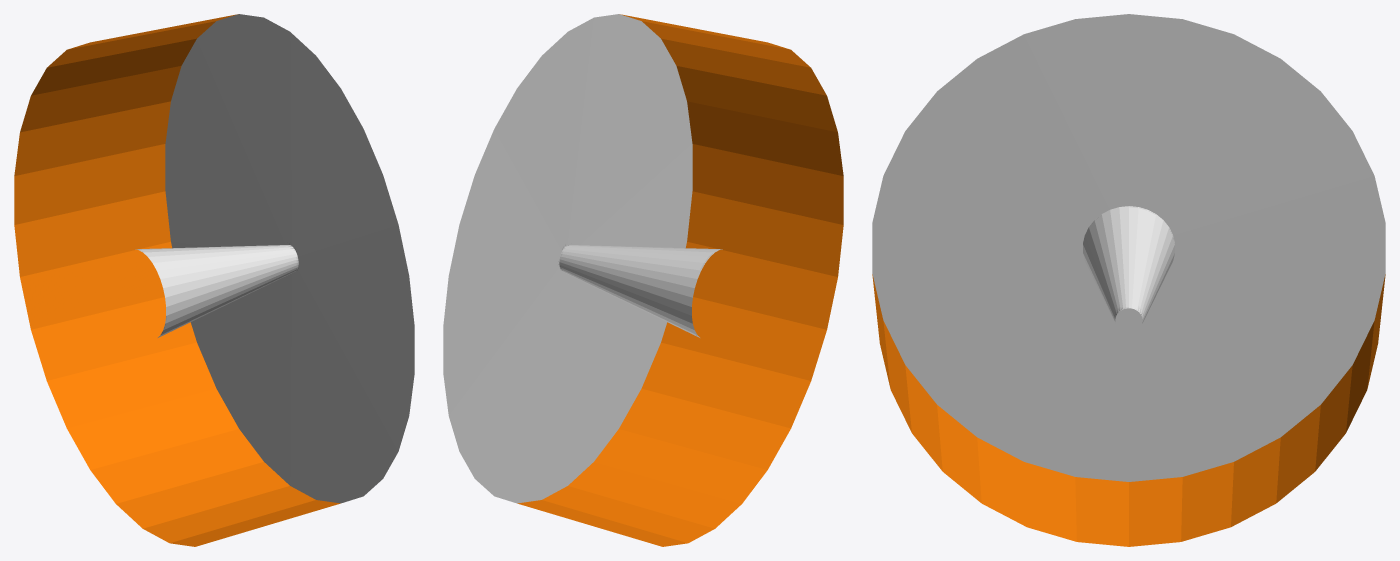
3 views of the same model, side by side, from view 1: azimuth 30°, elevation 25°; view 2: azimuth 150°, elevation 25°; view 3: azimuth 270°, elevation 25° (orthographic).
Visible parts, largest first — view 1: algeomath; view 2: algeomath; view 3: algeomath.
Boxes of the visible parts, x1,y1,x2,y2 form: algeomath: [14, 14, 414, 546]; algeomath: [443, 14, 843, 546]; algeomath: [872, 14, 1385, 546].
Size of the model in its own units: 2.07 by 6.22 by 6.19.
1 material, 1 textured.
